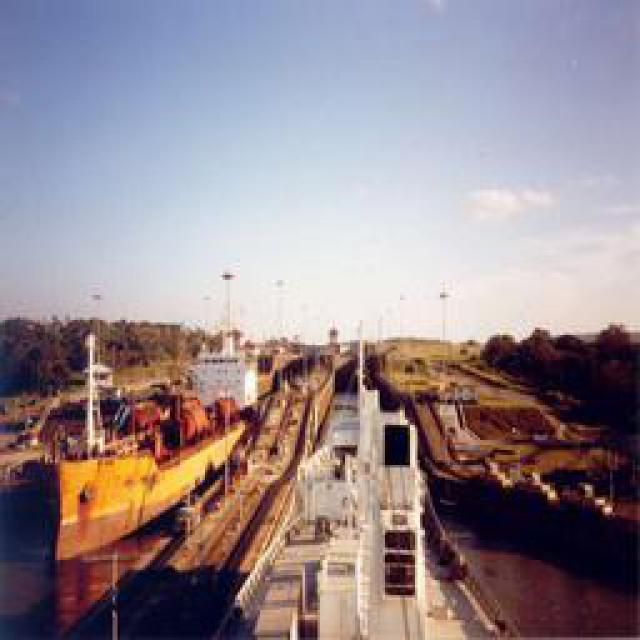Ship: (366, 330, 640, 594)
